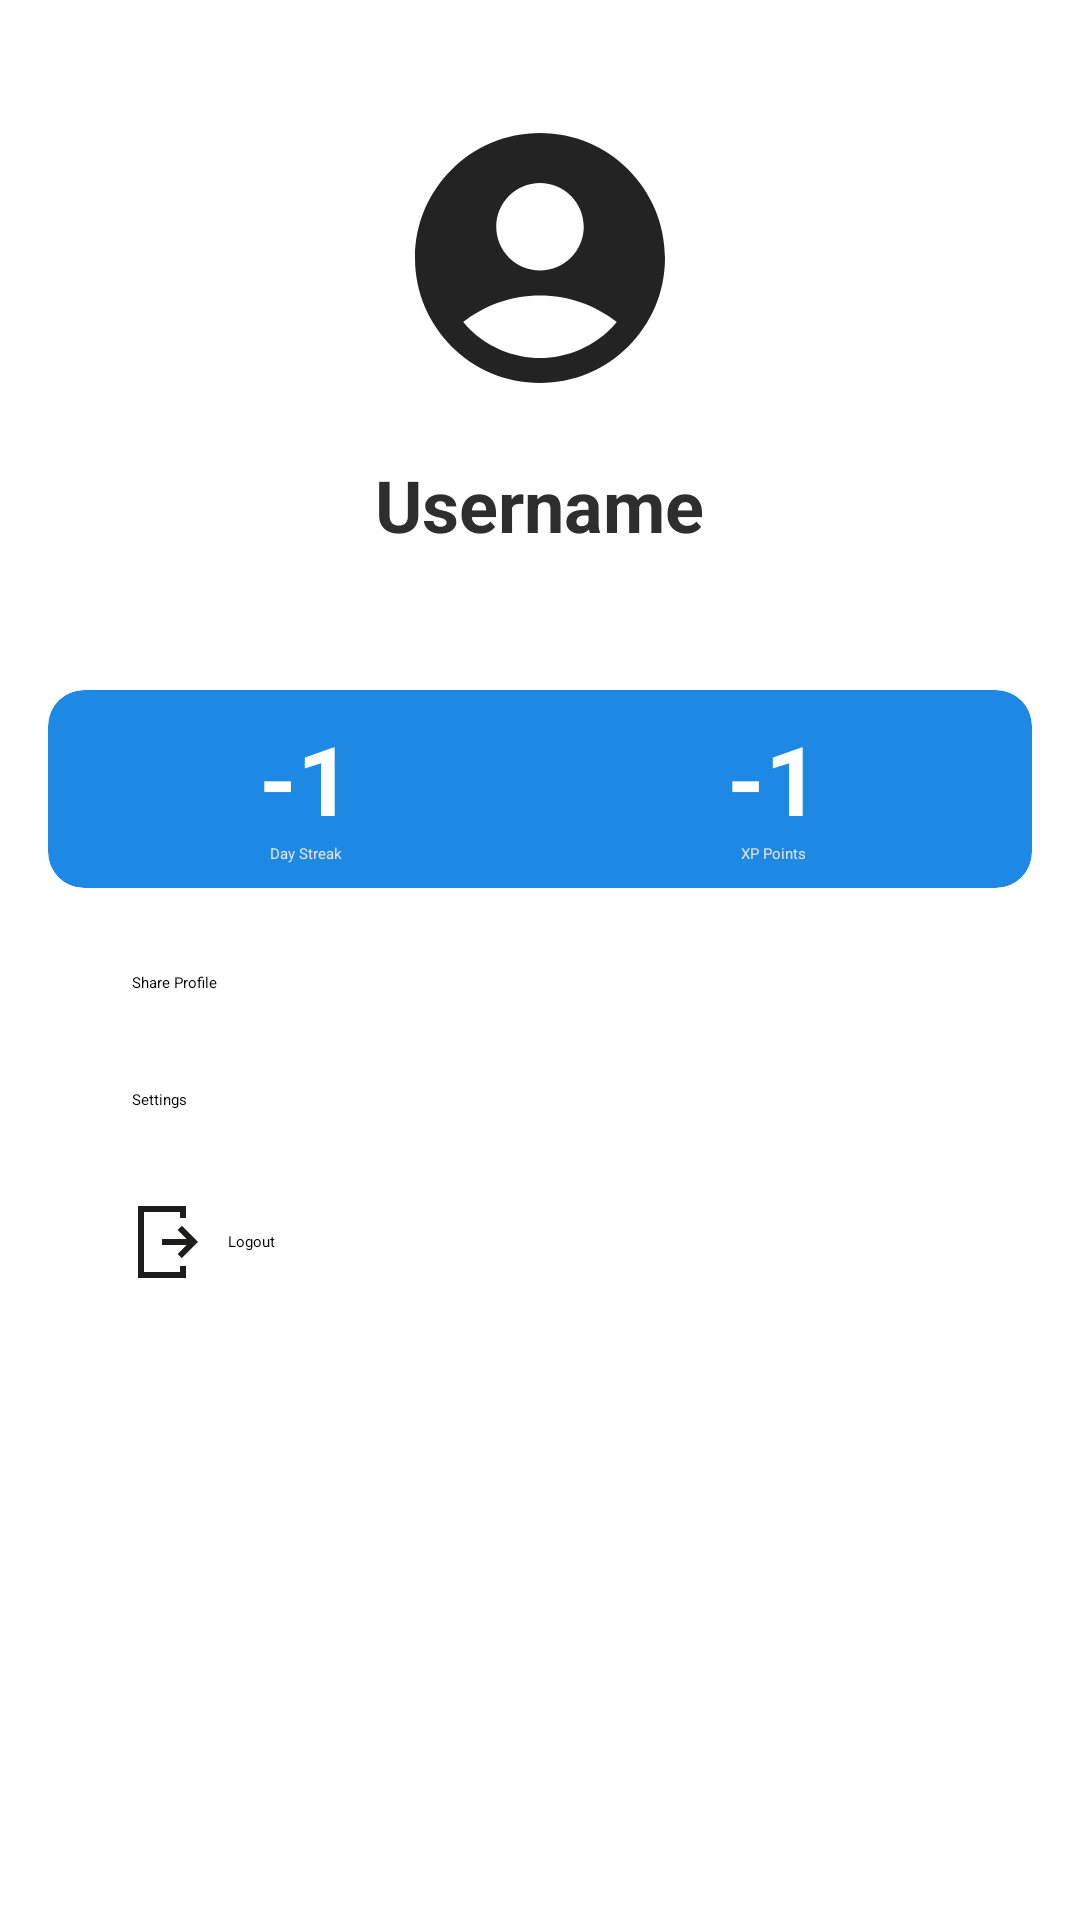

Icon click points for this 1080 × 1920 phone screenshot, format (x,y):
Profile Picture: (540,258)
